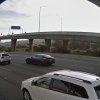Car: (13, 65, 100, 100)
